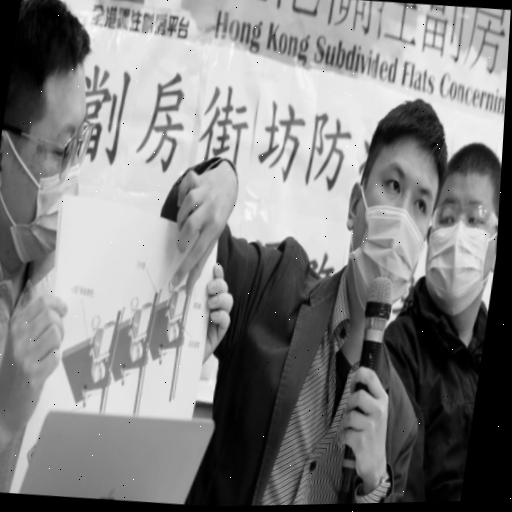mask: (0, 0, 114, 282), (327, 83, 457, 329), (413, 112, 505, 323)
